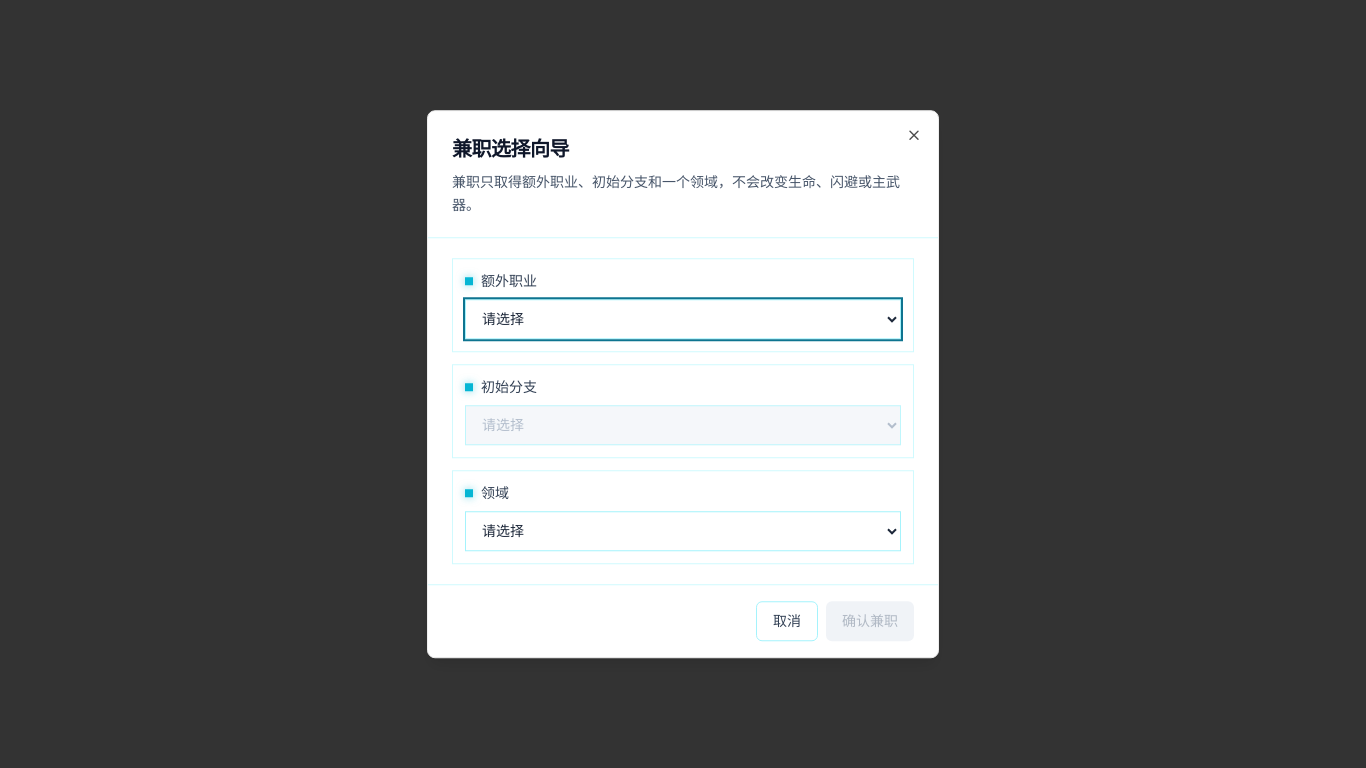
Test case: RhodesMulticlassModal › uses a readable light theme and enables branch selection after choosing a profession
Expected: the dropdown labelled "初始分支" is disabled, [465,405,901,445]
Select "近卫" in the dropdown labelled "额外职业". click: (683, 319)
box: [465,299,901,339]
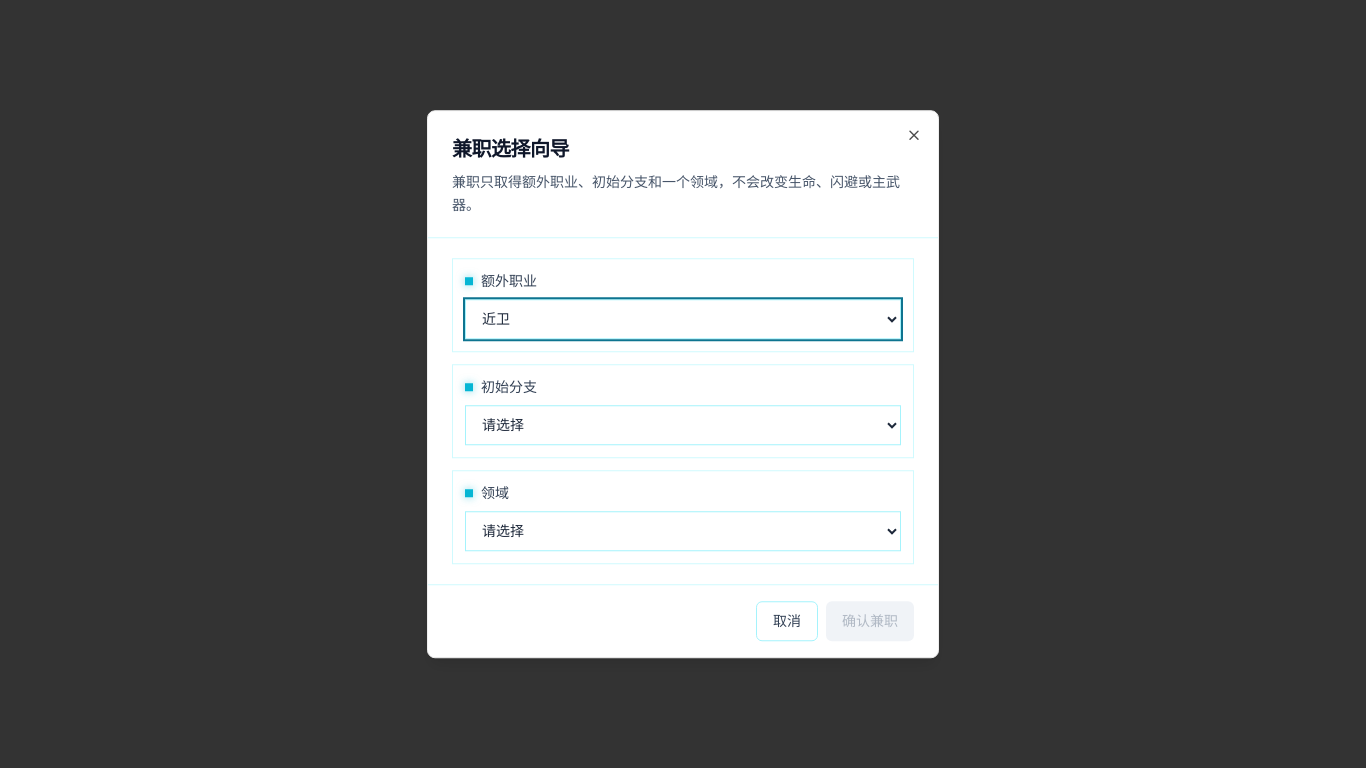
Expected: the dropdown labelled "初始分支" is enabled, [465,405,901,445]
